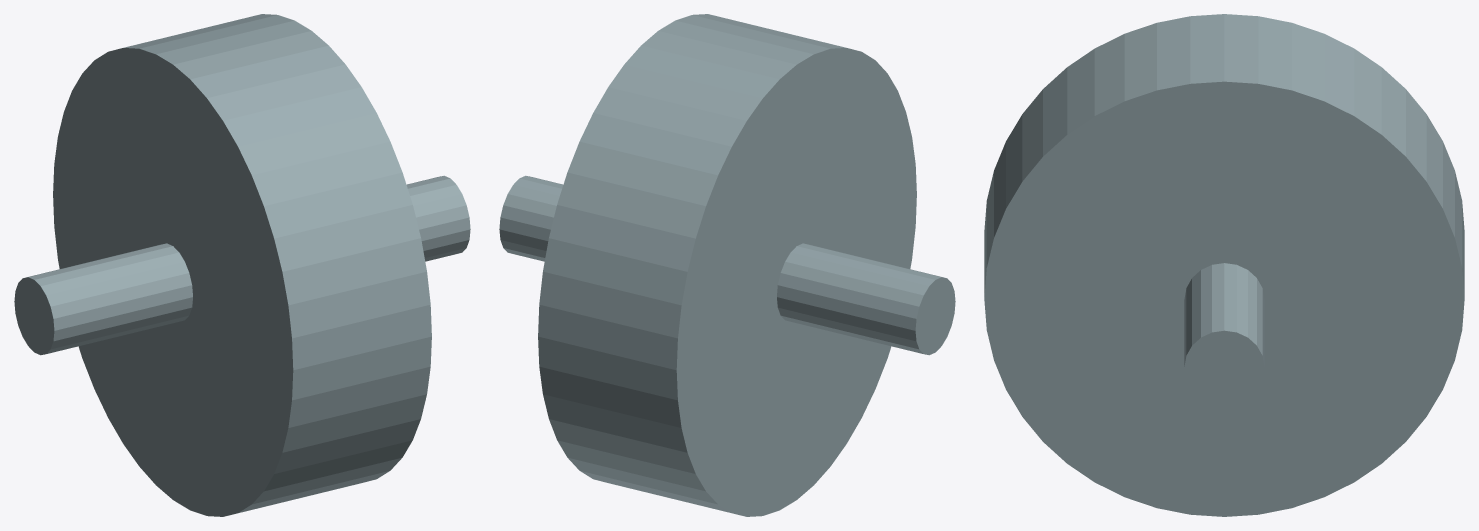
File: Foot v2.obj
The picture shows the model from 3 angles, left to right: view 1: azimuth 30°, elevation 25°; view 2: azimuth 150°, elevation 25°; view 3: azimuth 270°, elevation 25°; orthographic projection.
Visible parts, largest first — view 1: Foot_v2; view 2: Foot_v2; view 3: Foot_v2.
Boxes of the visible parts, x1,y1,x2,y2 form: Foot_v2: (14, 14, 470, 516); Foot_v2: (499, 14, 955, 516); Foot_v2: (984, 14, 1464, 516).
Bounding box in the file's own units: 60 × 60 × 60.
